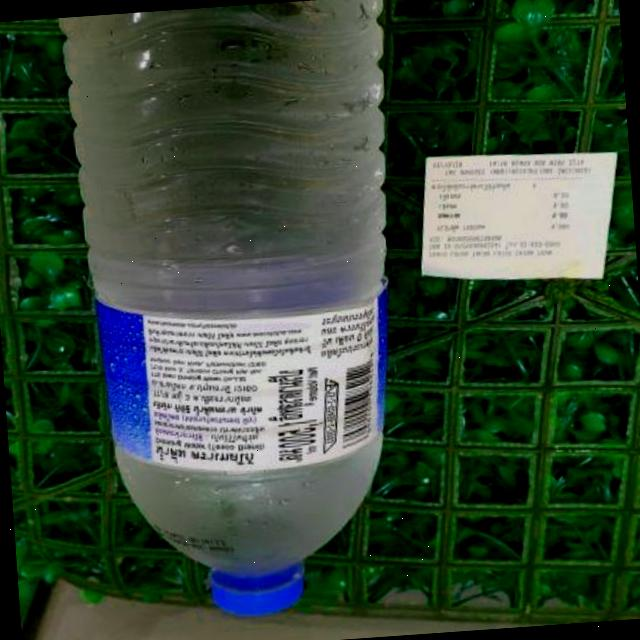bottle: (53, 0, 423, 630)
cap: (202, 560, 312, 618)
label: (88, 285, 406, 452)
